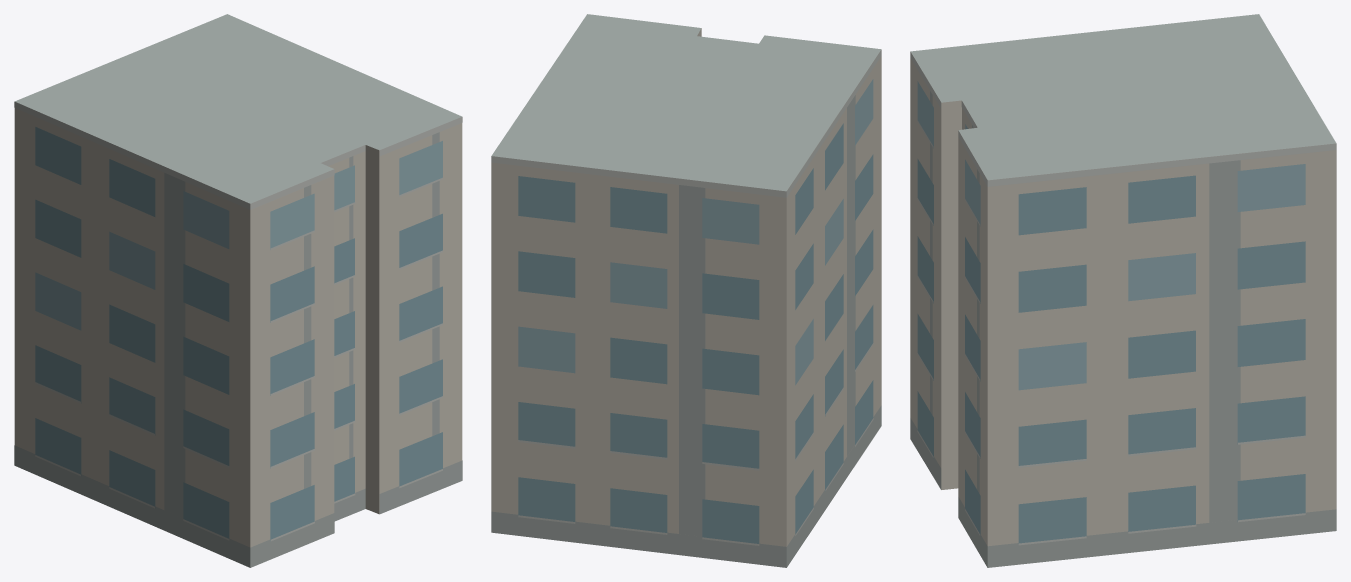
File: survey-upis-32822685.glb
3 renders of one model, left to right at view 1: azimuth 30°, elevation 25°; view 2: azimuth 150°, elevation 25°; view 3: azimuth 270°, elevation 25°, orthographic. The views are drawn at different scales.
Visible parts, largest first — view 1: survey-upis-32822685.tmp; view 2: survey-upis-32822685.tmp; view 3: survey-upis-32822685.tmp.
Boxes of the visible parts, <box> form: survey-upis-32822685.tmp: <box>14,14,462,567</box>; survey-upis-32822685.tmp: <box>491,14,881,567</box>; survey-upis-32822685.tmp: <box>910,14,1336,567</box>.
Bounding box in the file's own units: 13.27 × 14.4 × 14.36.
